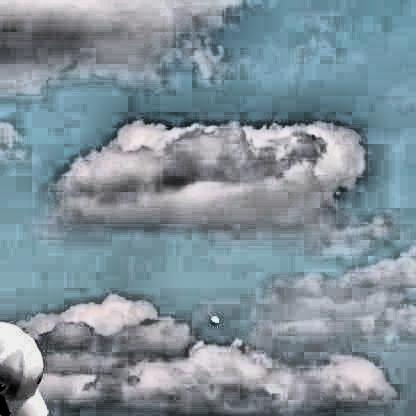golfball: (207, 313, 217, 323)
